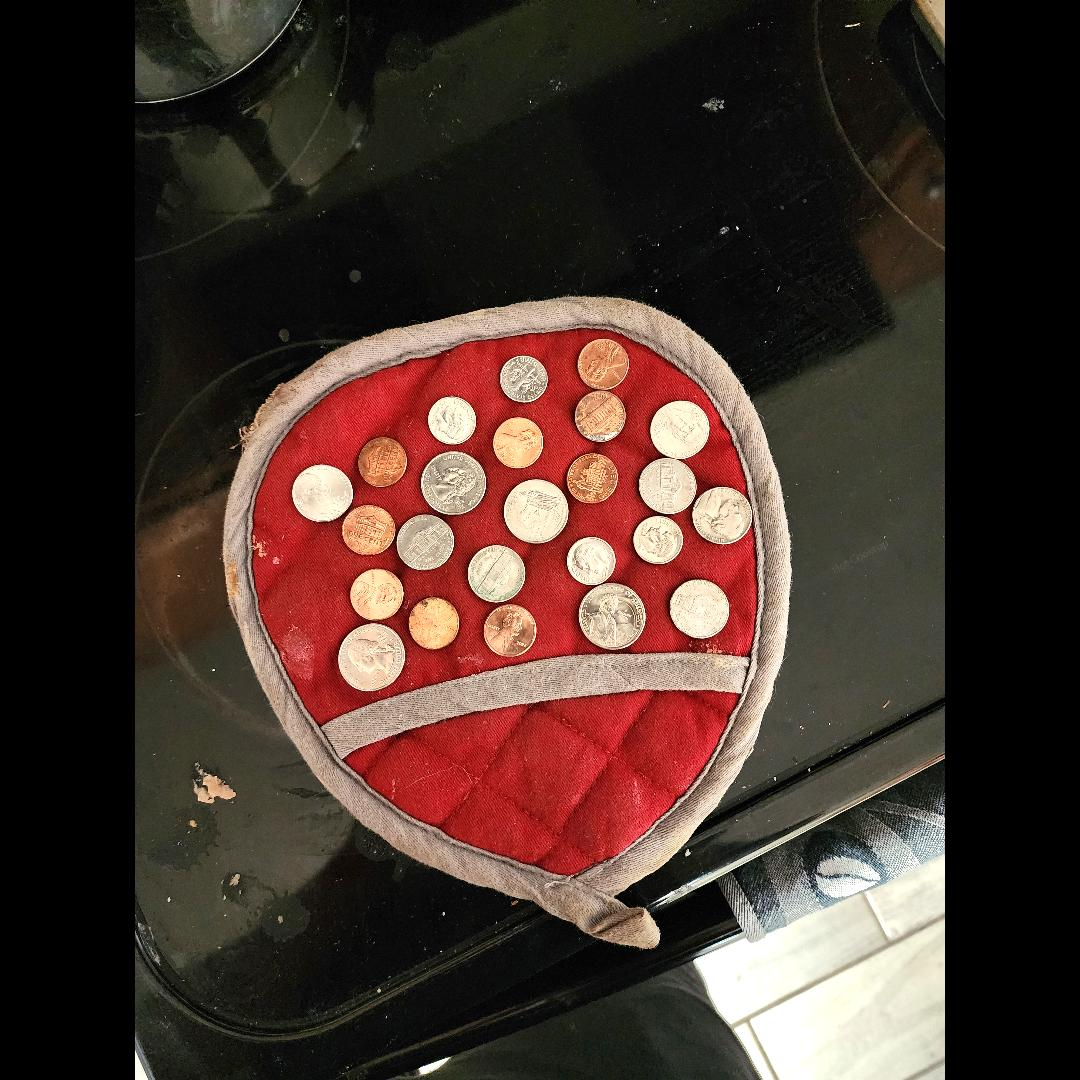Dime: (498, 354, 548, 402), (568, 536, 616, 584), (634, 516, 682, 564), (428, 396, 474, 446)
Nickel: (671, 580, 729, 638), (650, 401, 708, 459), (468, 545, 526, 602), (292, 466, 353, 520), (694, 488, 752, 542), (396, 515, 452, 569), (641, 460, 695, 512)
Penny: (484, 605, 536, 657), (566, 452, 618, 504), (344, 505, 396, 557), (351, 569, 403, 619), (574, 392, 624, 443), (409, 600, 459, 650), (356, 438, 408, 486), (578, 339, 630, 387), (492, 420, 542, 466)
Quarter: (340, 626, 406, 690), (579, 584, 644, 648), (504, 478, 567, 544), (422, 450, 484, 514)
